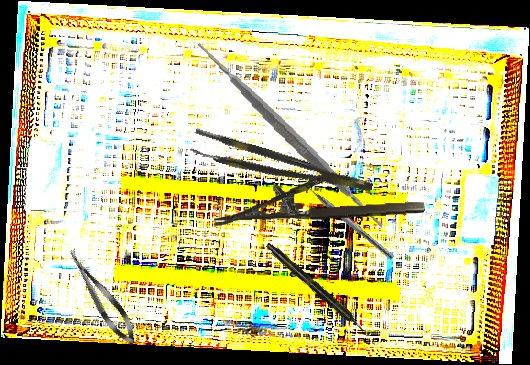Chopper: (299, 175, 400, 261)
Handpiece: (263, 240, 368, 335)
Micro Scissor: (61, 244, 143, 350)
Needle Holder: (212, 172, 425, 227)
Spatula Surgical: (182, 28, 399, 241)
Tissue Forceps: (189, 127, 374, 208)
